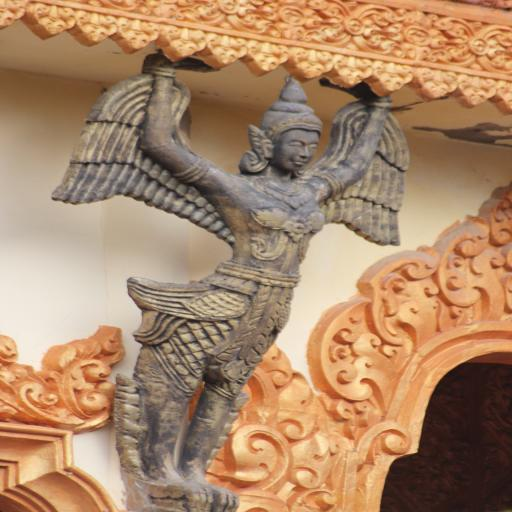la: (224, 348, 328, 512), (0, 318, 130, 431), (321, 296, 392, 405), (370, 249, 445, 345), (436, 222, 488, 336), (158, 24, 206, 64), (410, 67, 458, 102), (244, 38, 287, 77), (114, 15, 159, 52), (73, 9, 114, 49), (371, 58, 411, 97), (30, 2, 71, 40), (288, 45, 332, 80), (205, 34, 244, 71), (331, 54, 372, 89), (457, 72, 490, 108), (0, 0, 30, 36), (491, 80, 512, 120)
than: (92, 44, 403, 512)
